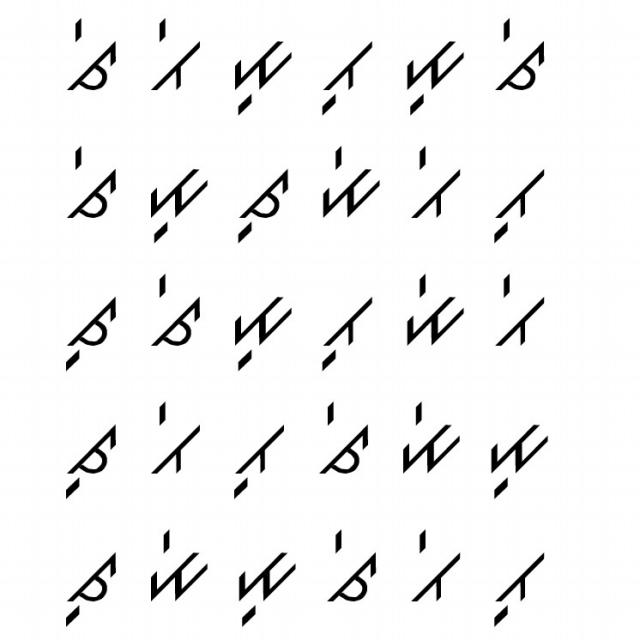be: (146, 398, 211, 485), (409, 524, 468, 614), (492, 270, 550, 354), (146, 17, 203, 102), (406, 140, 462, 223)
bu: (479, 537, 554, 627), (310, 32, 382, 118), (485, 157, 550, 249), (312, 289, 377, 376), (229, 415, 293, 501)
ce: (52, 135, 122, 233), (144, 155, 214, 243), (56, 16, 130, 98), (490, 12, 553, 106), (324, 522, 388, 611), (144, 274, 209, 358), (318, 396, 376, 478)
cu: (59, 412, 128, 502), (56, 547, 122, 636), (58, 288, 121, 372), (230, 165, 295, 242)
me: (140, 522, 212, 606), (392, 397, 463, 482), (319, 139, 383, 231), (399, 266, 469, 350)
mu: (219, 30, 294, 117), (394, 32, 468, 119), (226, 282, 298, 370), (230, 540, 297, 628), (482, 416, 553, 498)
